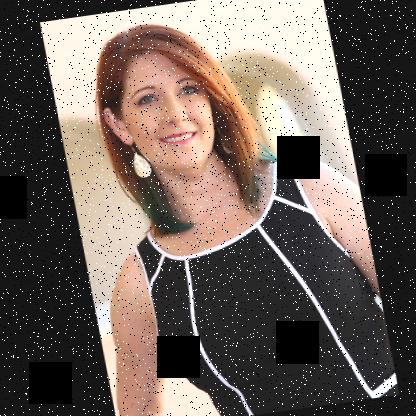Female: (91, 45, 222, 177)
